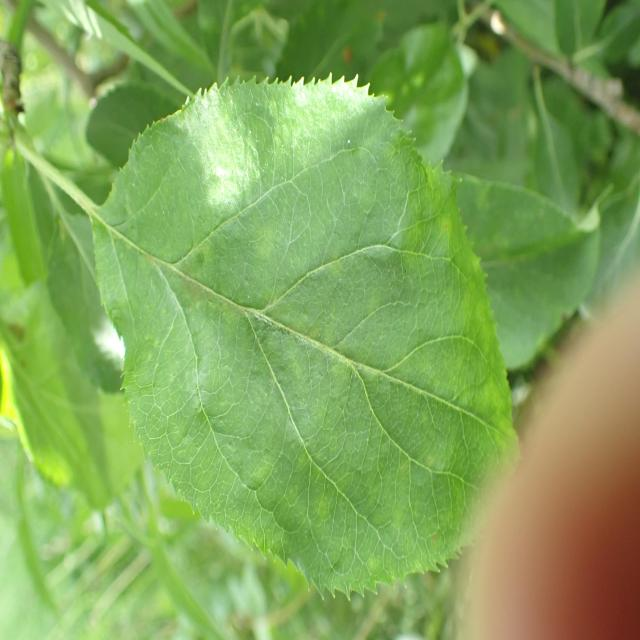scab: (90, 188, 519, 473)
